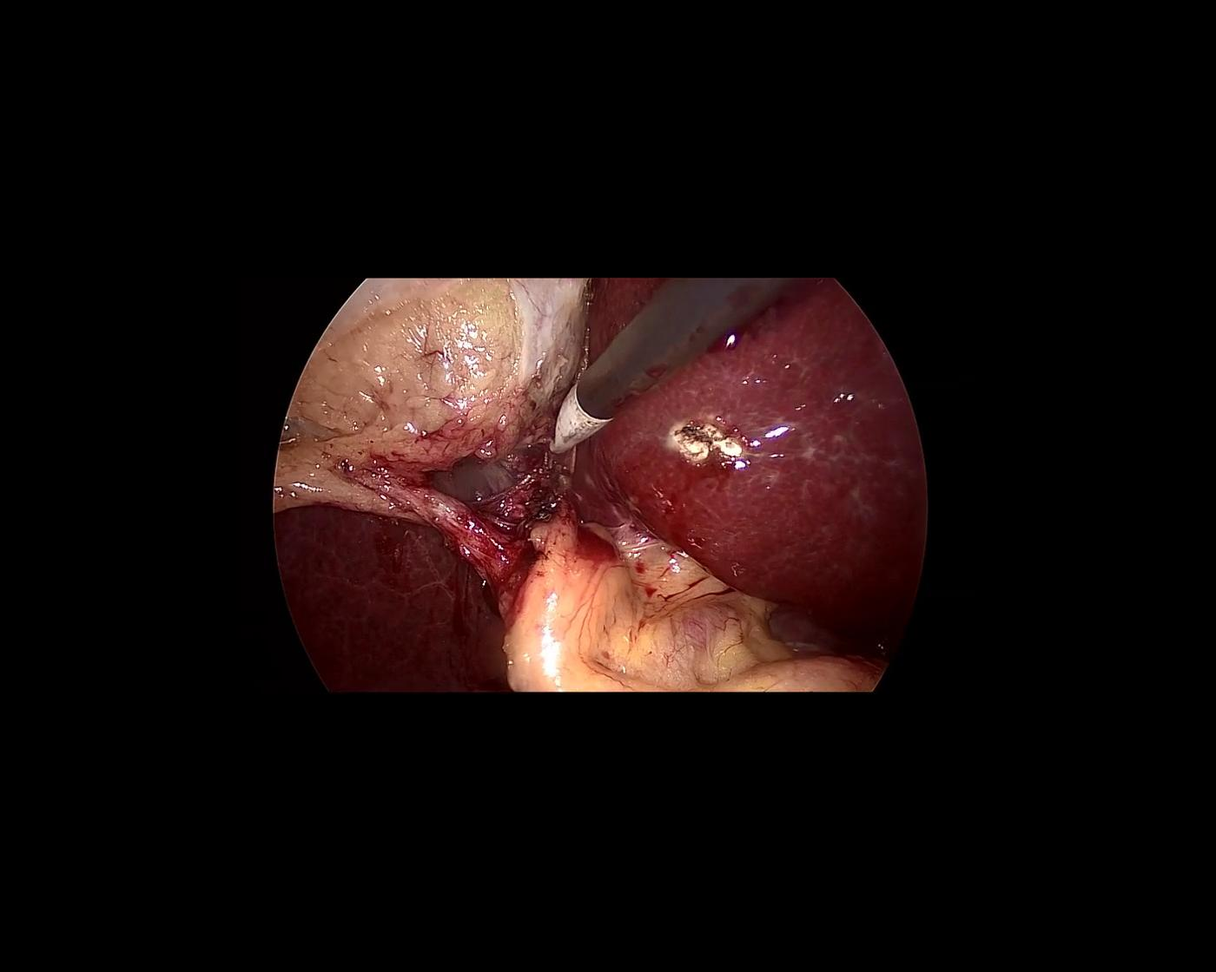Cautery: (509, 206, 829, 459)
Gallbladder: (275, 278, 592, 514)
Liver: (553, 253, 951, 648), (274, 504, 511, 693)
